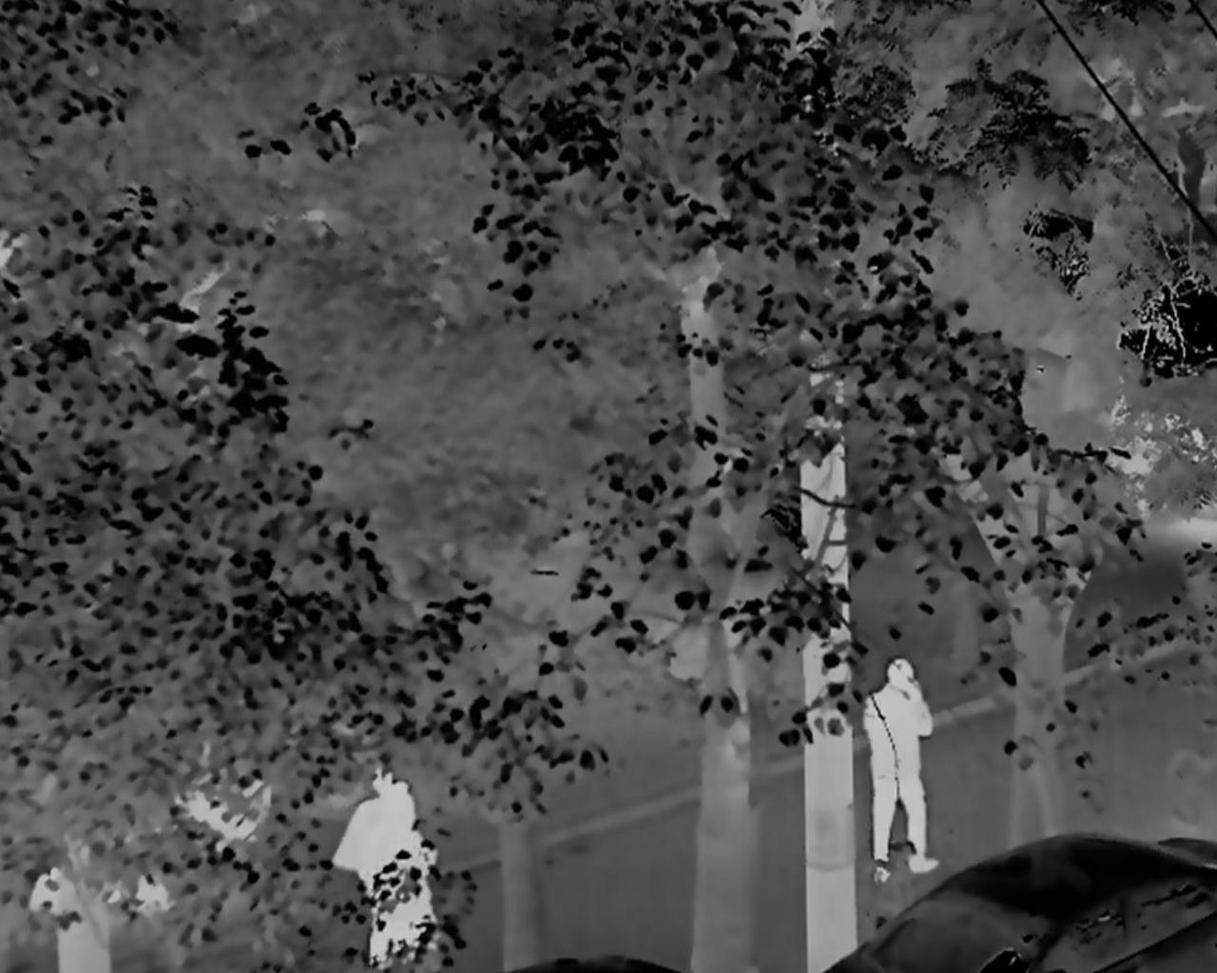person: (342, 765, 444, 972), (861, 654, 942, 889)
